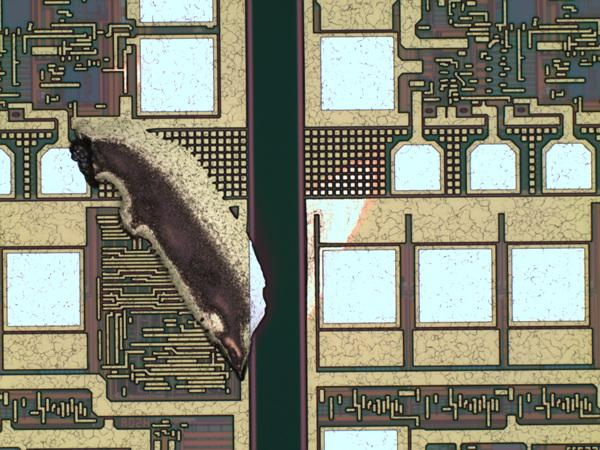BLOCK ETCH: (69, 118, 394, 382)
